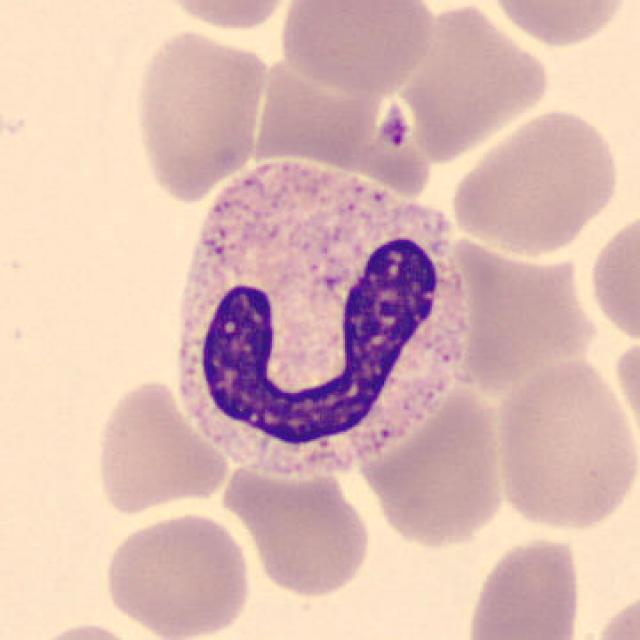Neutrophil: (158, 154, 476, 488)
RBC: (354, 379, 514, 550), (489, 353, 638, 536), (389, 0, 555, 164), (446, 106, 624, 257), (128, 25, 270, 206), (100, 508, 256, 640), (89, 376, 229, 518), (240, 471, 375, 601), (276, 0, 438, 97), (462, 532, 587, 640), (587, 205, 638, 349), (485, 0, 631, 49), (151, 0, 302, 33), (610, 330, 638, 446), (587, 585, 638, 640), (23, 619, 153, 640)
